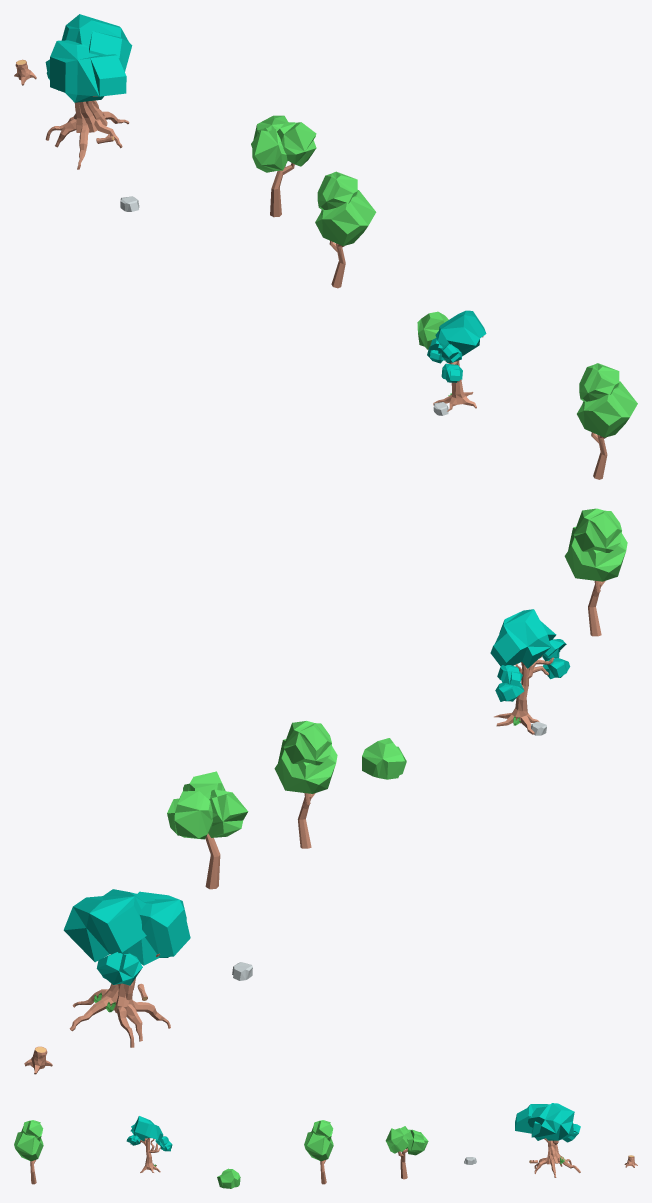
The model's file is plant_wall.glb.
3 renders of one model, top to bottom at view 1: azimuth 30°, elevation 25°; view 2: azimuth 150°, elevation 25°; view 3: azimuth 270°, elevation 25°, orthographic. The views are drawn at different scales.
Visible parts, largest first — view 1: group1634341855, group313951583, group313951583.001, group1573540807, group443772894, group937971834, group599290752, group438538056; view 2: group1573540807, group443772894, group313951583.001, group313951583, group1634341855, group599290752, group937971834, group438538056, group133283747, group1678092117; view 3: group443772894, group1573540807, group313951583, group313951583.001, group1634341855, group937971834, group599290752, group438538056, group133283747.
Part boxes in pixels (x1,y1,x2,y2): group1634341855: (50, 40, 126, 102); group313951583: (577, 363, 637, 479); group313951583.001: (315, 171, 376, 288); group1573540807: (251, 115, 316, 217); group443772894: (61, 14, 132, 71); group937971834: (45, 96, 129, 169); group599290752: (435, 310, 486, 355); group438538056: (417, 311, 448, 349); group1573540807: (167, 771, 248, 889); group443772894: (63, 889, 155, 962); group313951583.001: (274, 721, 337, 848); group313951583: (564, 508, 627, 636); group1634341855: (128, 891, 190, 965); group599290752: (490, 609, 556, 668); group937971834: (69, 953, 170, 1047); group438538056: (362, 738, 406, 779); group133283747: (494, 655, 553, 734); group1678092117: (96, 952, 142, 985); group443772894: (528, 1103, 574, 1140); group1573540807: (385, 1126, 428, 1179); group313951583: (14, 1120, 43, 1184); group313951583.001: (304, 1120, 333, 1184); group1634341855: (515, 1104, 549, 1140); group937971834: (534, 1138, 580, 1177); group599290752: (130, 1116, 163, 1141); group438538056: (217, 1168, 240, 1188); group133283747: (140, 1138, 160, 1172).
Bounding box in the file's own units: 0.5518 × 0.5154 × 4.16.
